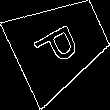P_NE: (32, 16, 88, 72)
